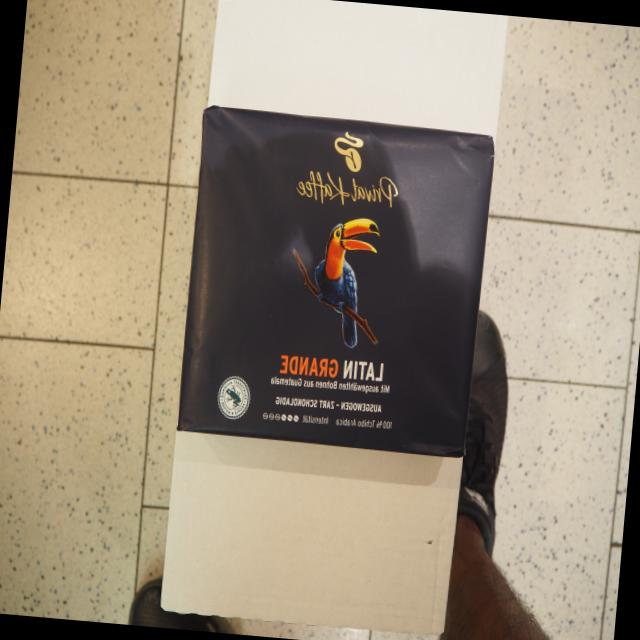LG Gemahlen: (173, 100, 499, 461)
